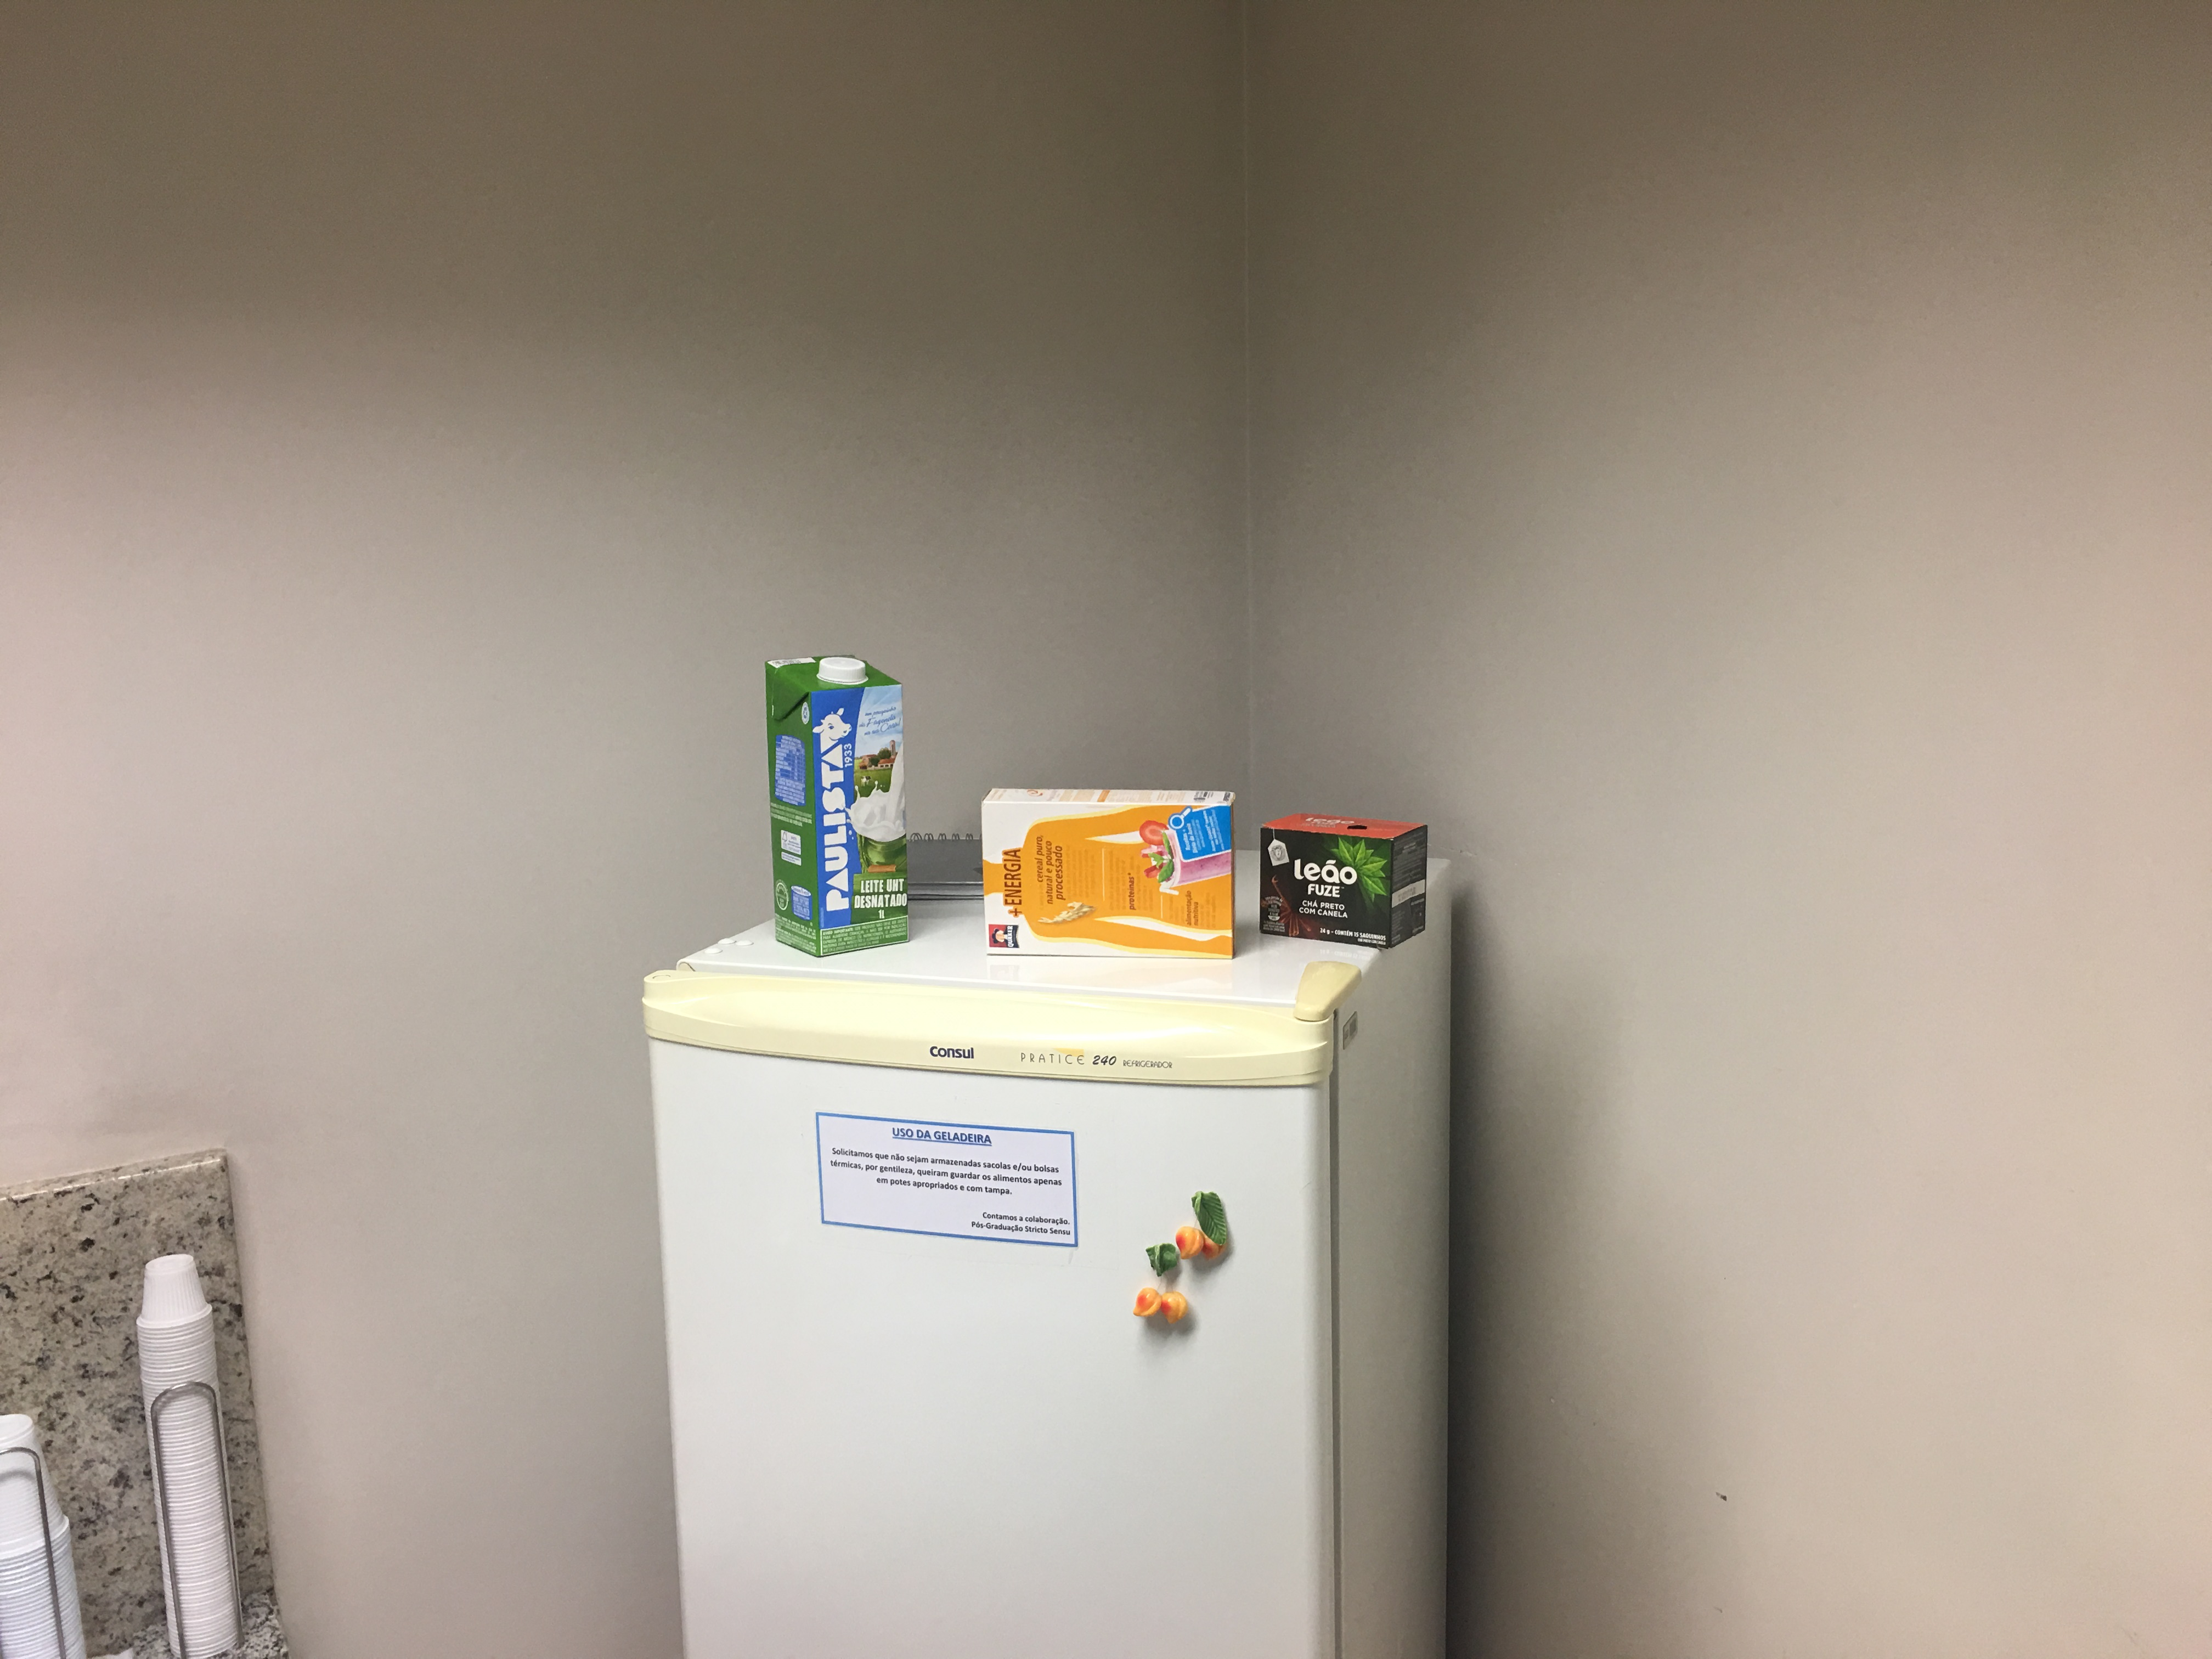cereal: (975, 777, 1244, 951)
milk_box: (759, 652, 923, 955)
tea_box: (1252, 803, 1433, 951)
